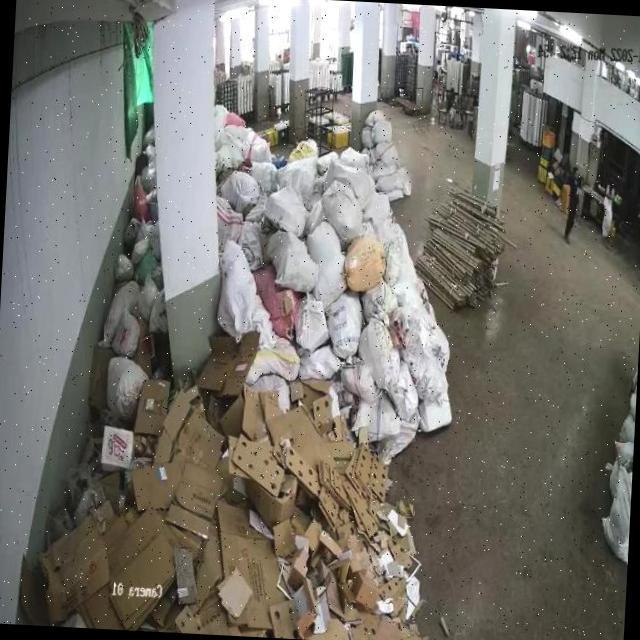person: (564, 164, 580, 242)
